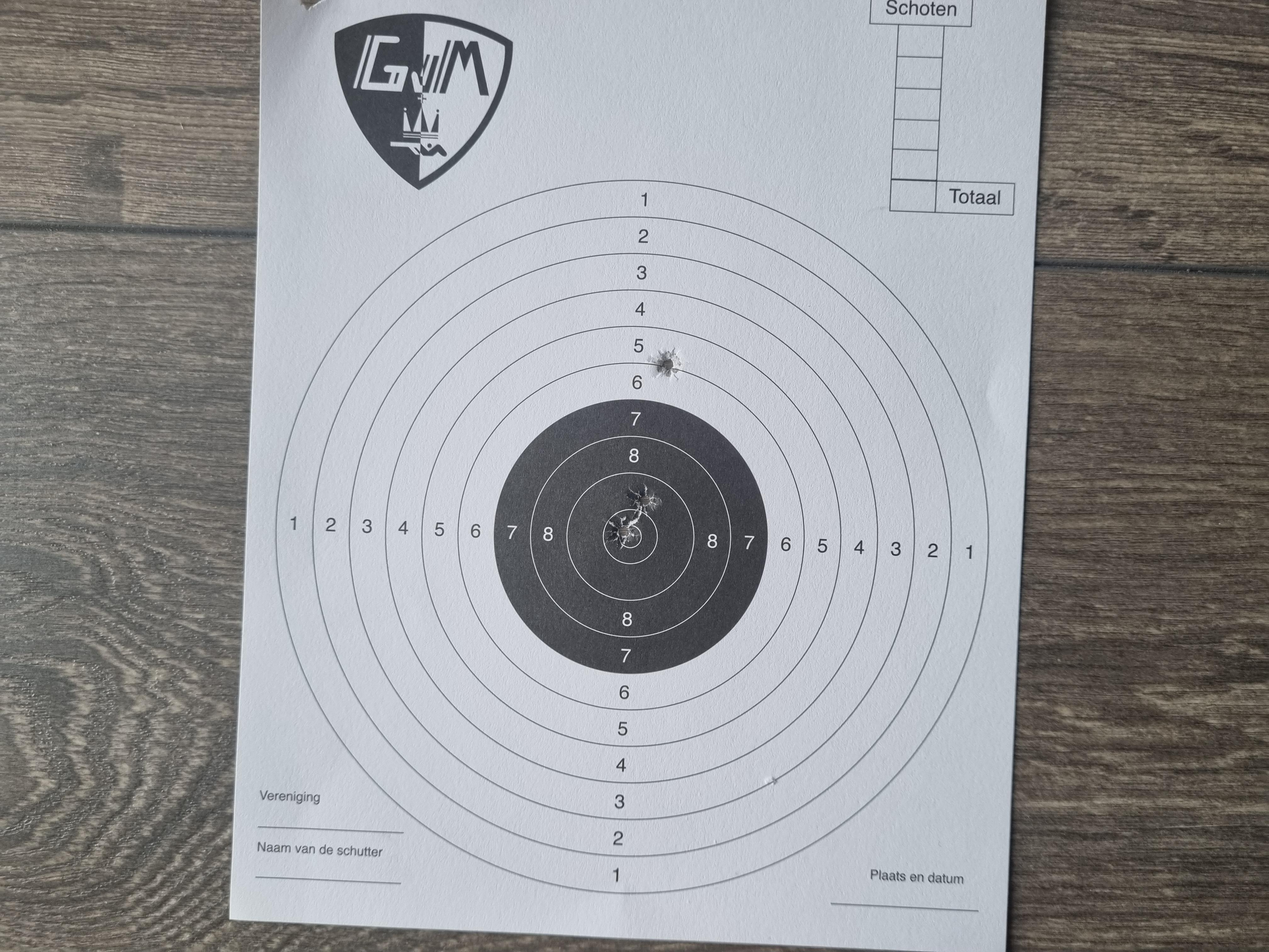hole: (537, 451, 585, 480), (760, 486, 809, 511), (580, 470, 625, 495)
